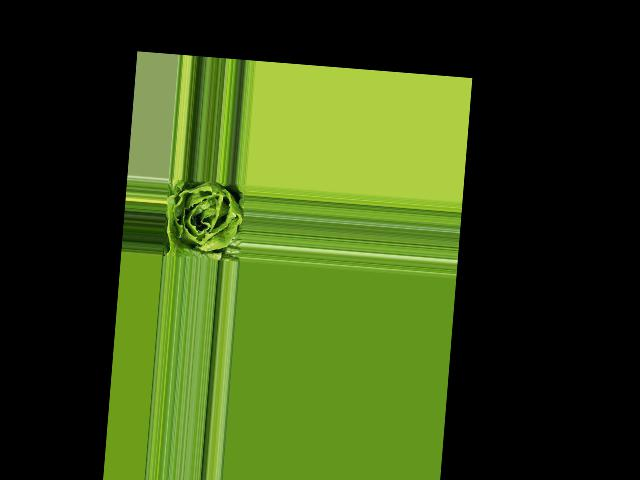lettuce: (163, 179, 245, 262)
